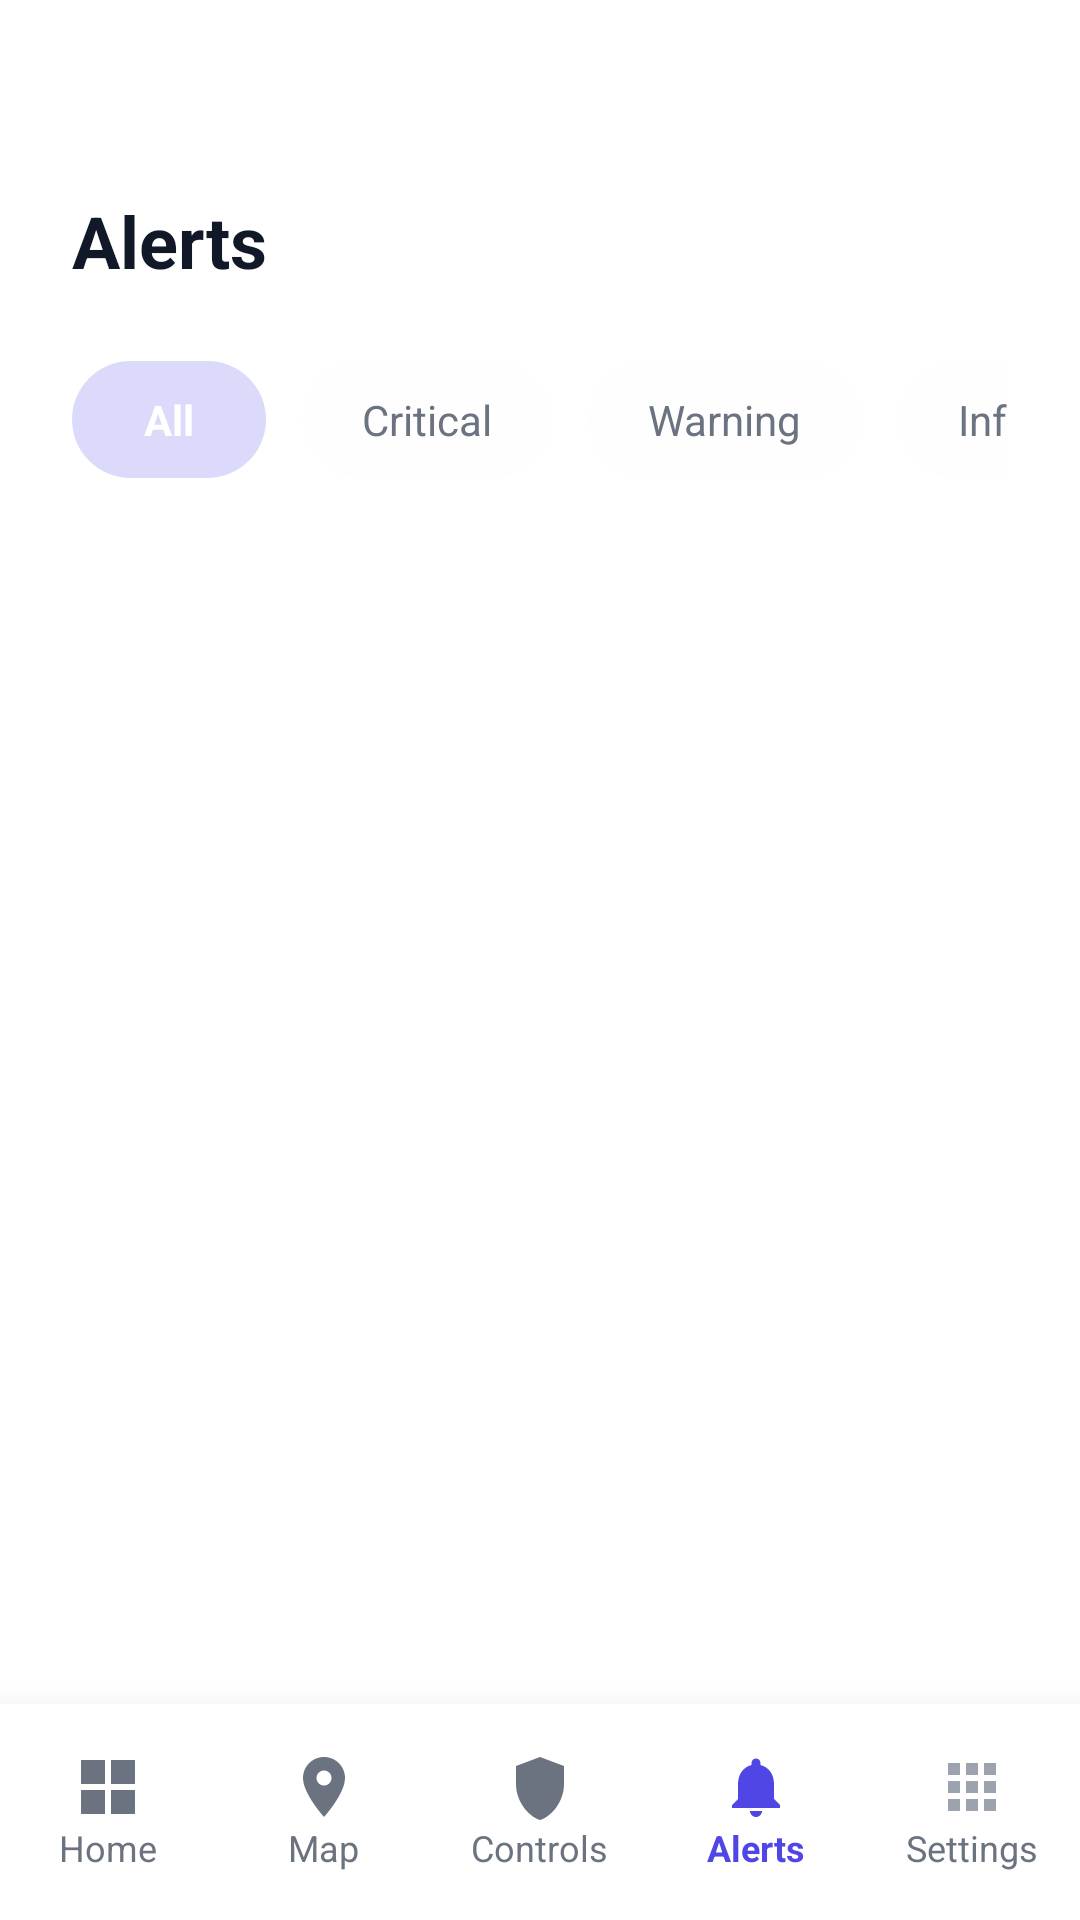

Screen size 1080 x 1920. Icon name, then its center in pixels as point (x, y):
dashboard grid: point (108, 1787)
grid: point (972, 1787)
location pin: point (324, 1787)
